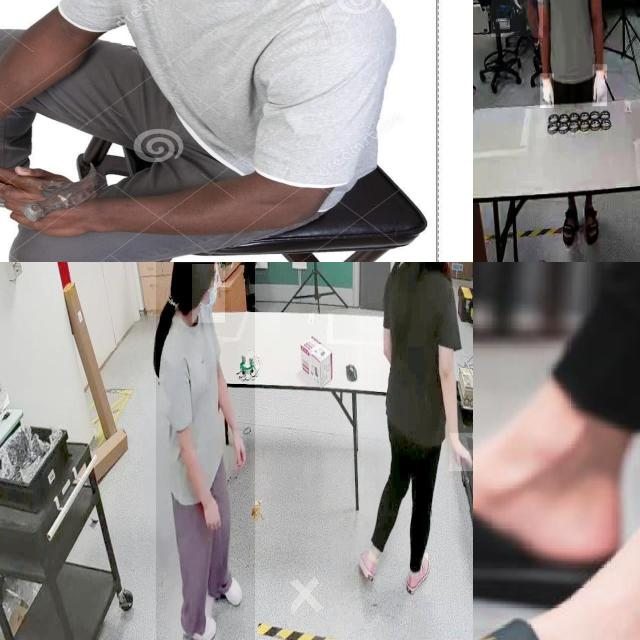face_mask: (192, 264, 225, 323)
hand_glove: (592, 64, 608, 107), (540, 73, 554, 109)
hand_noglove: (449, 433, 473, 472), (201, 494, 223, 532), (231, 430, 247, 470)
person: (364, 262, 473, 608), (156, 262, 255, 640), (533, 0, 607, 102), (491, 0, 543, 37)
shoes: (401, 542, 433, 598), (205, 561, 244, 606), (176, 599, 216, 640), (355, 534, 378, 582)
